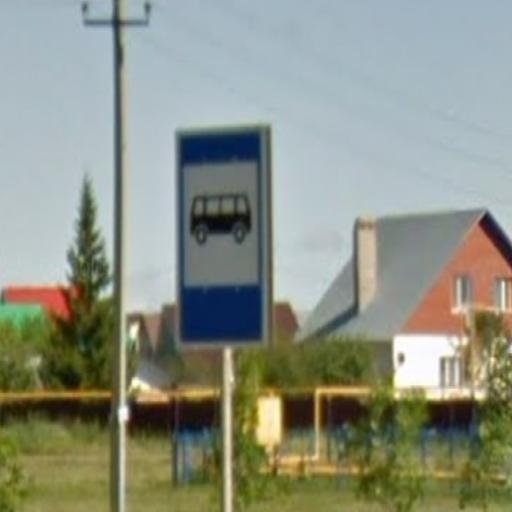traffic_sign: (176, 123, 269, 350)
